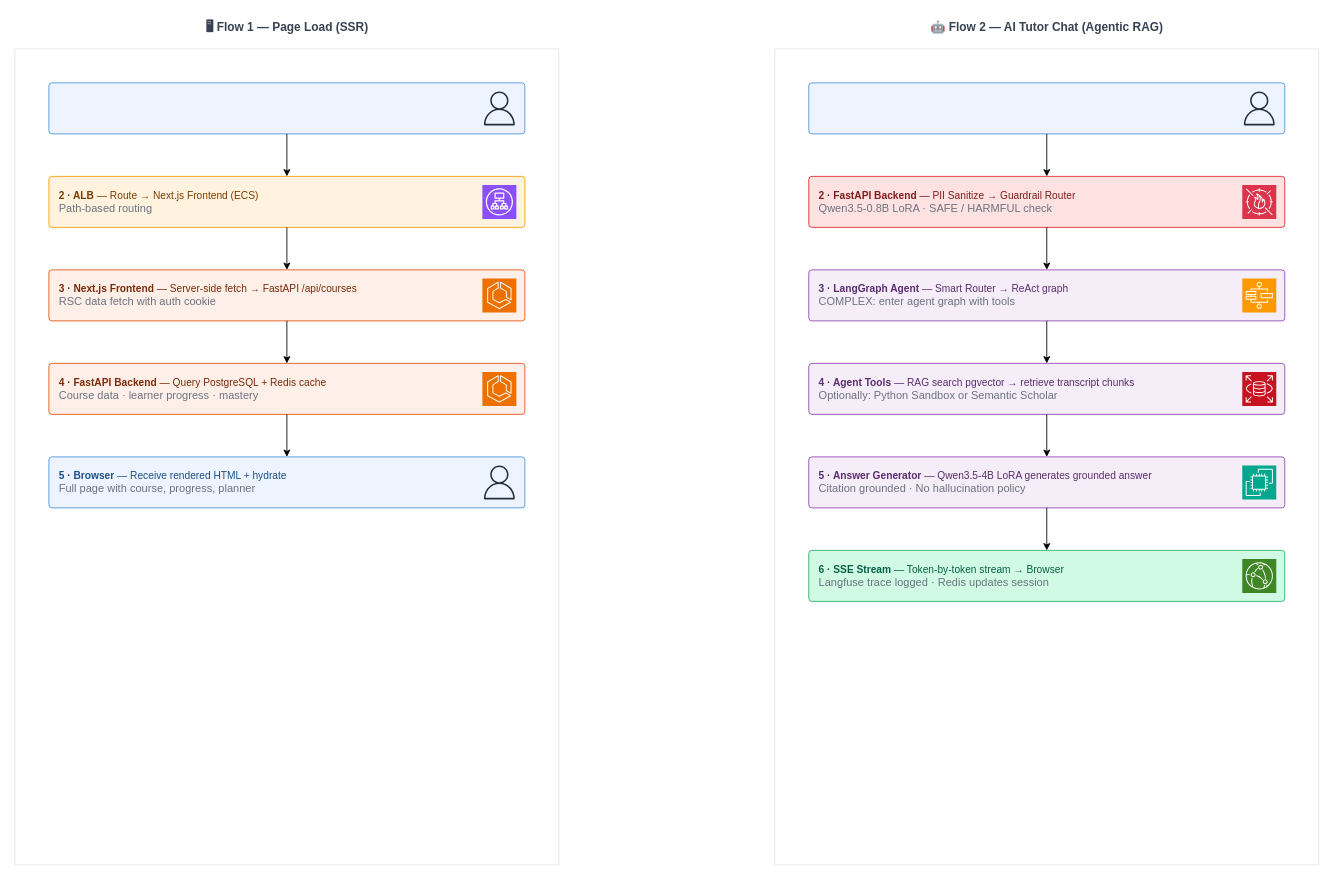
This 1334x880 diagram has some shape labels left out. Each missing label, with the box of its shape:
1 · Browser — GET /courses/:id HTTPS to CloudFront / ALB: (48, 82, 525, 134)
1 · Browser — POST /api/agent/chat User message + session context: (808, 82, 1285, 134)
